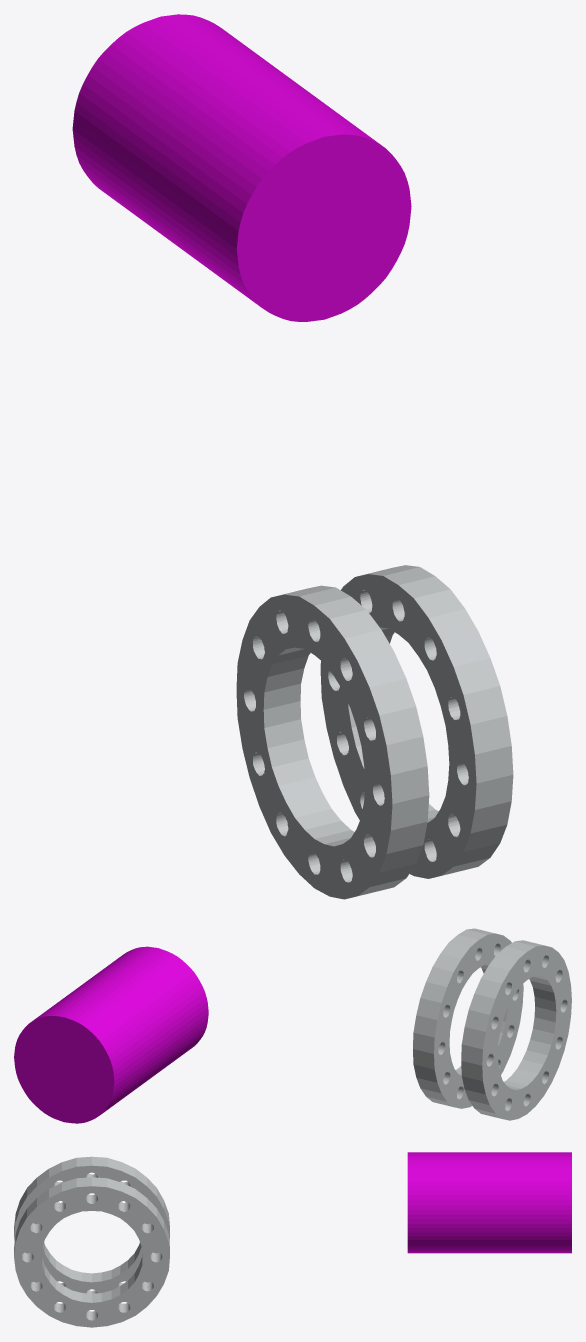
3 renders of one model, top to bottom at view 1: azimuth 30°, elevation 25°; view 2: azimuth 150°, elevation 25°; view 3: azimuth 270°, elevation 25°, orthographic. The views are drawn at different scales.
Bounding box in the file's own units: 0.519 × 0.5297 × 1.21.
